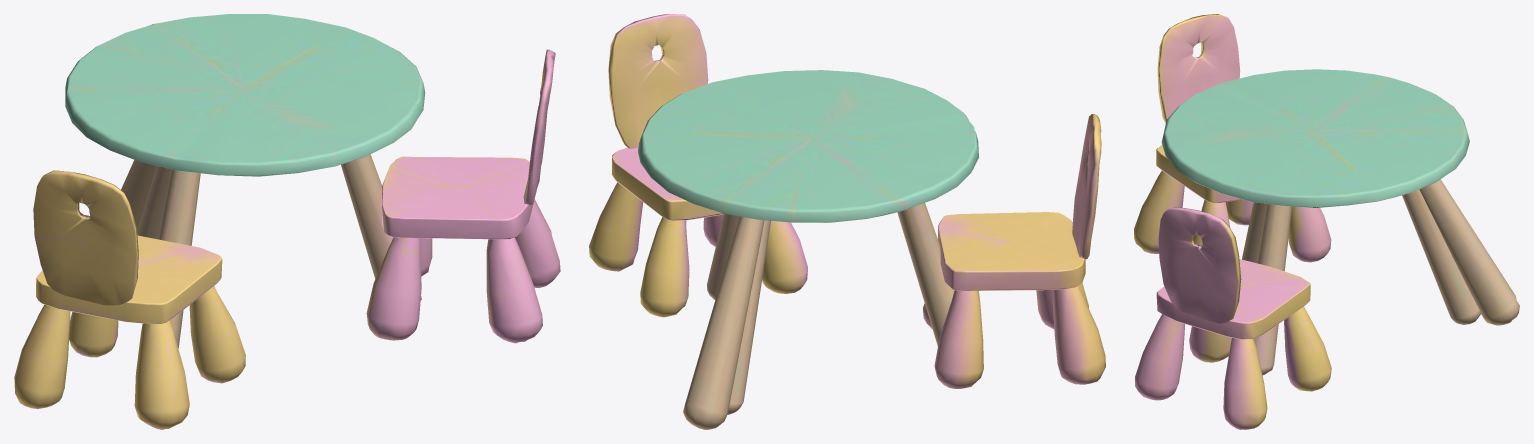
File: table_set.glb
3 views of the same model, side by side, from view 1: azimuth 30°, elevation 25°; view 2: azimuth 150°, elevation 25°; view 3: azimuth 270°, elevation 25° (orthographic). The views are drawn at different scales.
Size of the model in its own units: 1 by 0.4443 by 0.7383.
1 material, 1 textured.
